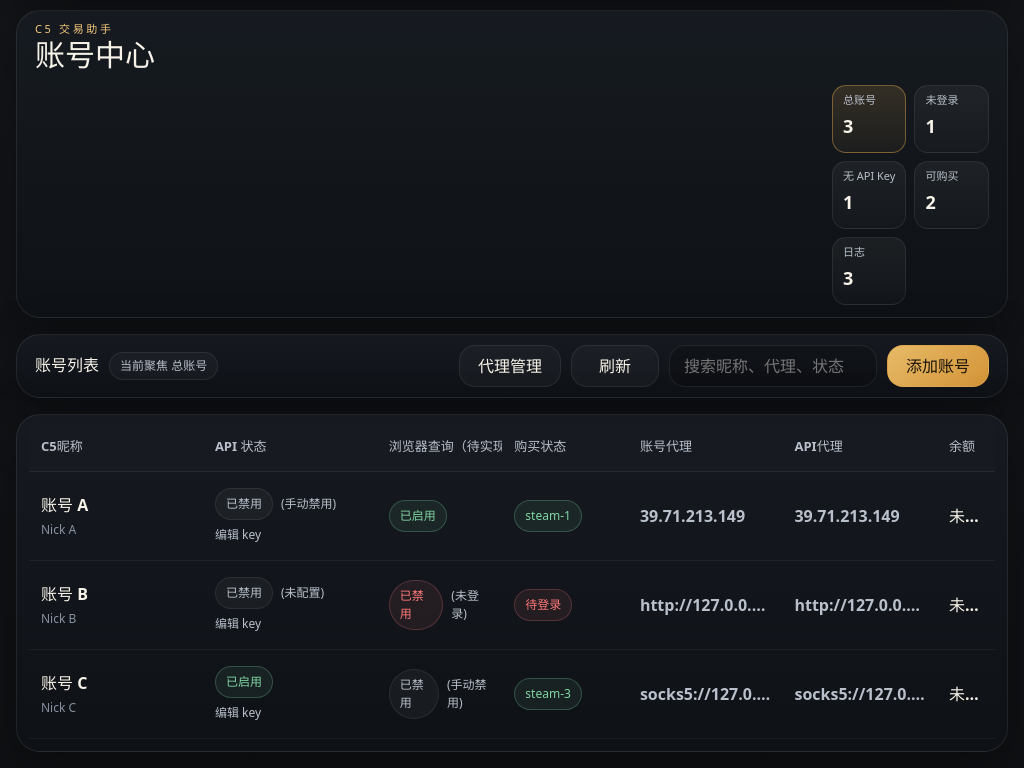
Test: account center editing flows › shows an unavailable dialog when browser query enable is not entitled
(page scrolled)
Check: the text "账号 C" is shown, box [41,672,87,694]
Click the button with aria-label "切换浏览器查询 账号 C".
click(440, 694)  # box [389,669,490,719]
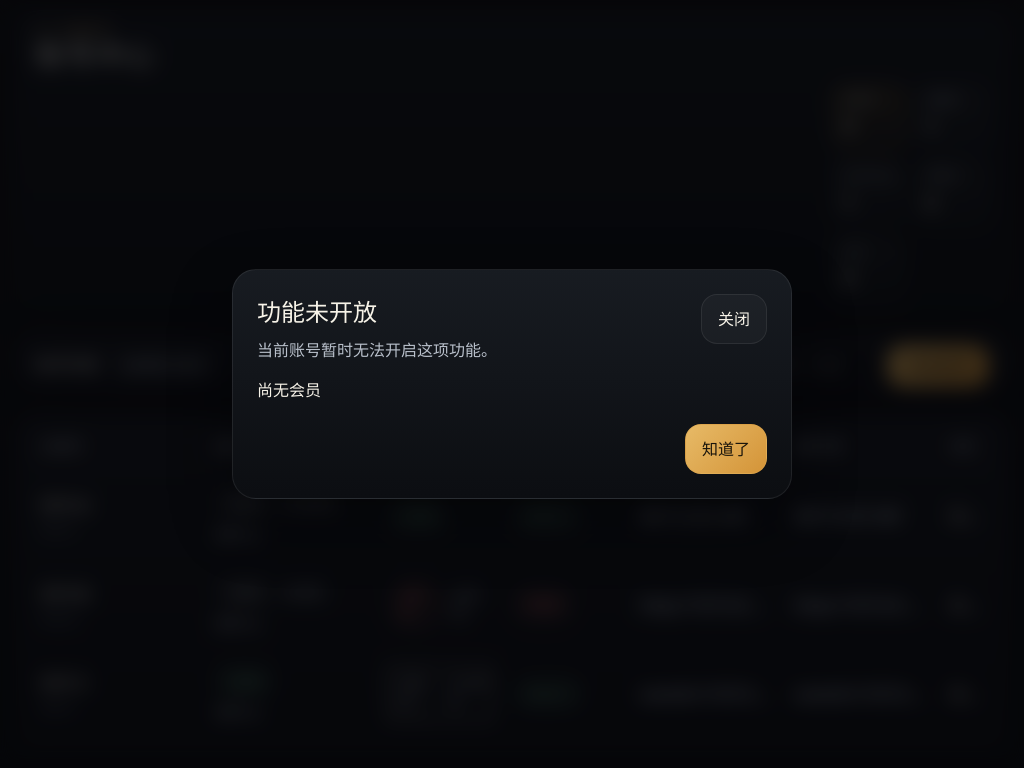
Check: the text "尚无会员" is shown, box [257,379,321,401]
